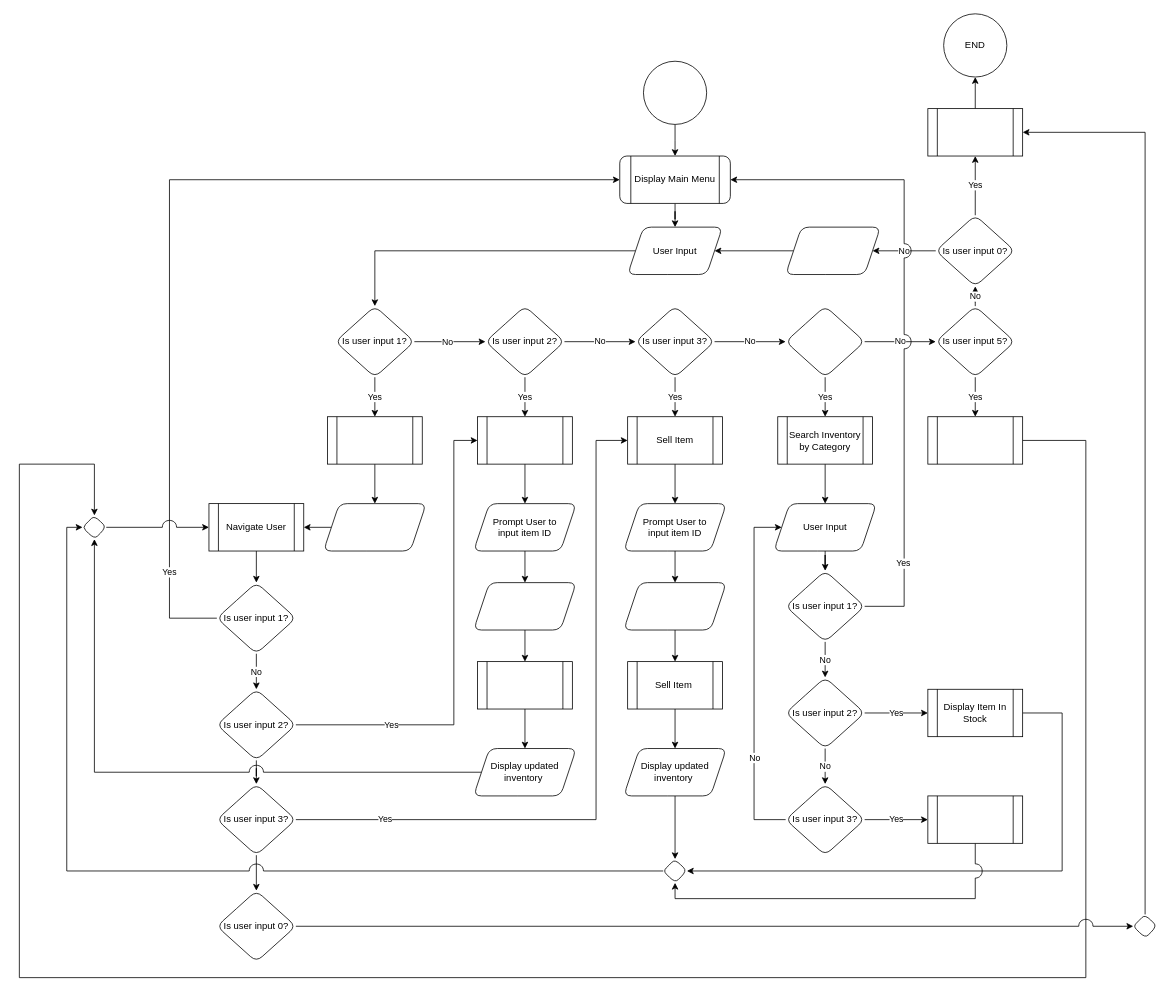
The diagram is 1171 pixels wide and 998 high, and some of its shapes have lost their labels. The box of each missing label's shape, as (x1, y1, x2, y2) in pixels:
Display inventory: (323, 503, 426, 551)
Display Item Low or Out of Stock: (927, 795, 1023, 843)
Display Sales Report: (927, 416, 1023, 464)
Exit Program: (927, 108, 1023, 156)
Is user input 4?: (785, 305, 865, 377)
Print "Invalid Option": (785, 226, 880, 275)
Prompt User to input restock amount: (473, 582, 576, 630)
Prompt User to input selling amount: (623, 582, 726, 630)
Restock Inventory: (477, 416, 572, 464)
Restock Success: (477, 661, 572, 709)
Start: (643, 60, 707, 124)
View Inventory: (327, 416, 422, 464)
